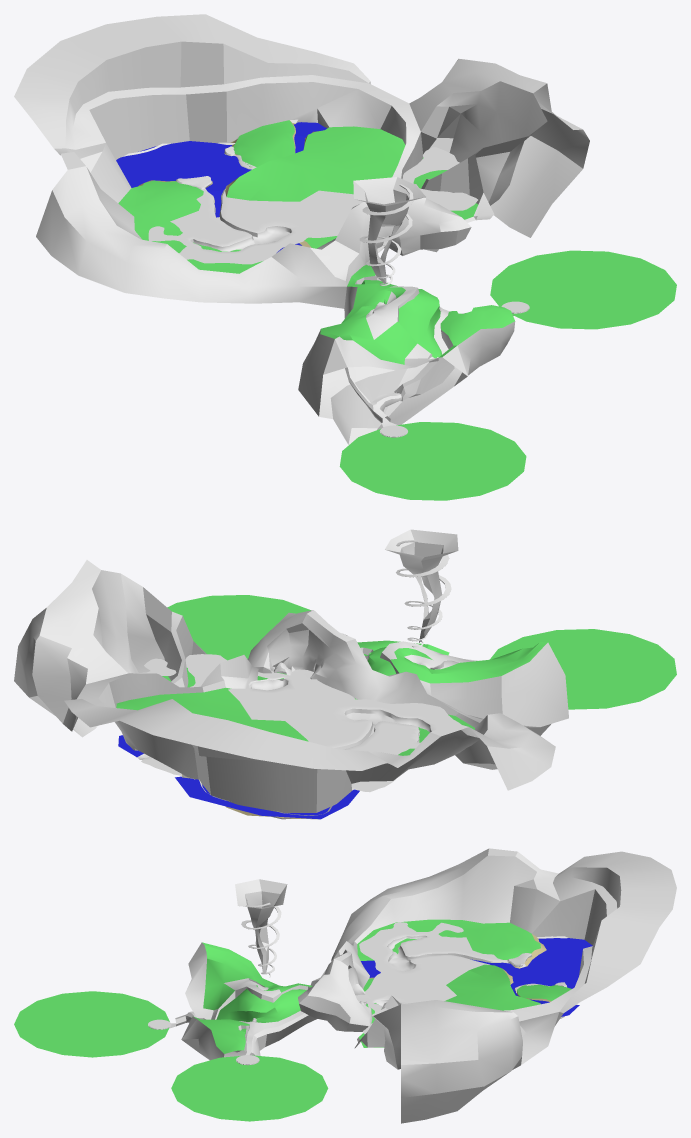
File: World.fbx
3 views of the same model, one above another, from view 1: azimuth 30°, elevation 25°; view 2: azimuth 150°, elevation 25°; view 3: azimuth 270°, elevation 25° (orthographic). The views are drawn at different scales.
Visible parts, largest first — view 1: LightCliffs, Hills, LightLand, Land_01, WaterArea, BloodArea, LightWaterSurface, Giant Stalagmite, CaveWalls; view 2: LightCliffs, Land_01, Hills, WaterArea, BloodArea, Giant Stalagmite, LightLand, LightWaterSurface; view 3: LightCliffs, Hills, WaterArea, BloodArea, Land_01, LightLand, LightWaterSurface, Giant Stalagmite, CavePaths.
Part boxes in pixels (x1,y1,x2,y2): LightCliffs: (14,14,589,308); Hills: (298,246,515,444); LightLand: (118,120,478,273); Land_01: (123,142,477,264); WaterArea: (339,422,526,500); BloodArea: (490,250,676,329); LightWaterSurface: (116,122,326,252); Giant Stalagmite: (353,177,425,285); CaveWalls: (345,308,401,422); LightCliffs: (14,560,555,819); Land_01: (135,654,461,815); Hills: (357,640,568,769); WaterArea: (490,629,676,709); BloodArea: (167,595,310,660); Giant Stalagmite: (385,529,458,647); LightLand: (116,668,474,755); LightWaterSurface: (118,735,359,819); LightCliffs: (298,848,676,1123); Hills: (181,942,317,1060); WaterArea: (14,991,169,1057); BloodArea: (171,1055,328,1121); Land_01: (355,922,577,1033); LightLand: (357,919,571,1047); LightWaterSurface: (361,938,592,1016); Giant Stalagmite: (235,879,287,977); CavePaths: (169,1010,304,1054).
Size of the model in its own units: 62359 by 27155 by 84377.
